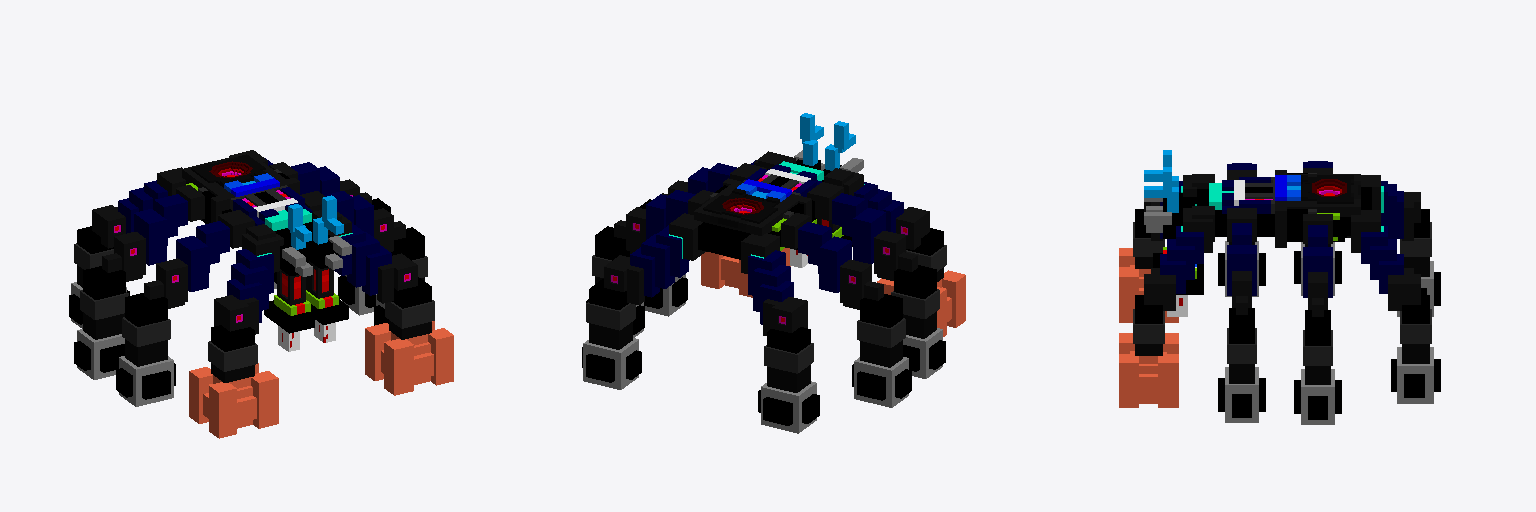
3 renders of one model, left to right at view 1: azimuth 30°, elevation 25°; view 2: azimuth 150°, elevation 25°; view 3: azimuth 270°, elevation 25°, orthographic.
Parts seen in each view (by area): view 1: object 1; view 2: object 1; view 3: object 1.
Boxes of the visible parts, <box> form: object 1: <box>69,150,453,438</box>; object 1: <box>582,113,965,433</box>; object 1: <box>1119,150,1440,424</box>.
Bounding box in the file's own units: 15.8 × 9.1 × 14.
1 materials, 1 textured.